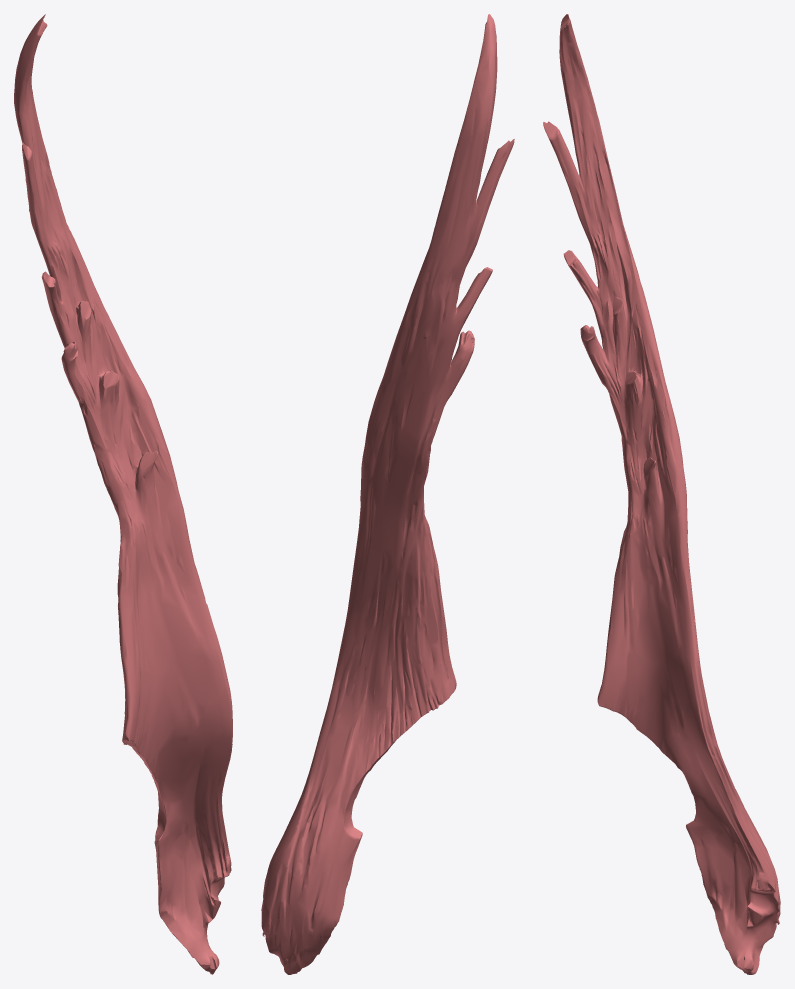
3 renders of one model, left to right at view 1: azimuth 30°, elevation 25°; view 2: azimuth 150°, elevation 25°; view 3: azimuth 330°, elevation 25°, orthographic. The views are drawn at different scales.
Visible parts, largest first — view 1: FJ1527; view 2: FJ1527; view 3: FJ1527.
Boxes of the visible parts, bbox=[...] form: FJ1527: bbox=[14, 14, 232, 974]; FJ1527: bbox=[261, 14, 514, 974]; FJ1527: bbox=[543, 14, 780, 974].
Size of the model in its own units: 0.0967 by 0.4067 by 0.0445.
